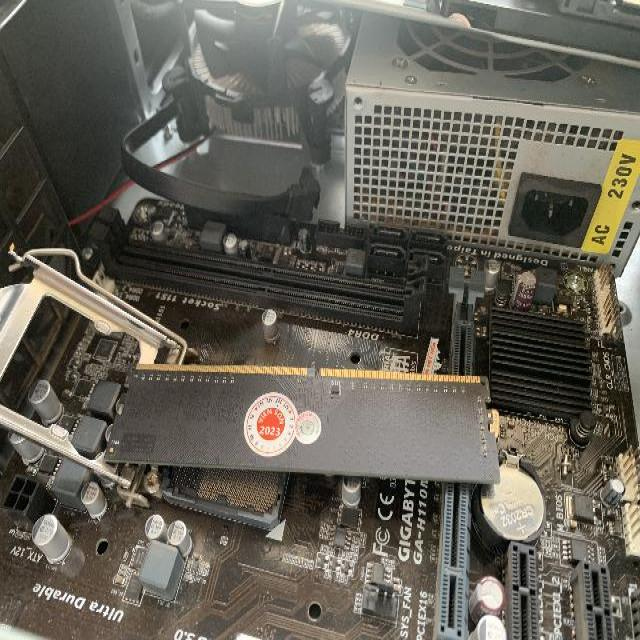CPU_Fan: (118, 0, 351, 199)
Mainboard: (0, 205, 640, 640)
PSU: (331, 0, 640, 285)
RAM: (102, 358, 502, 486)
